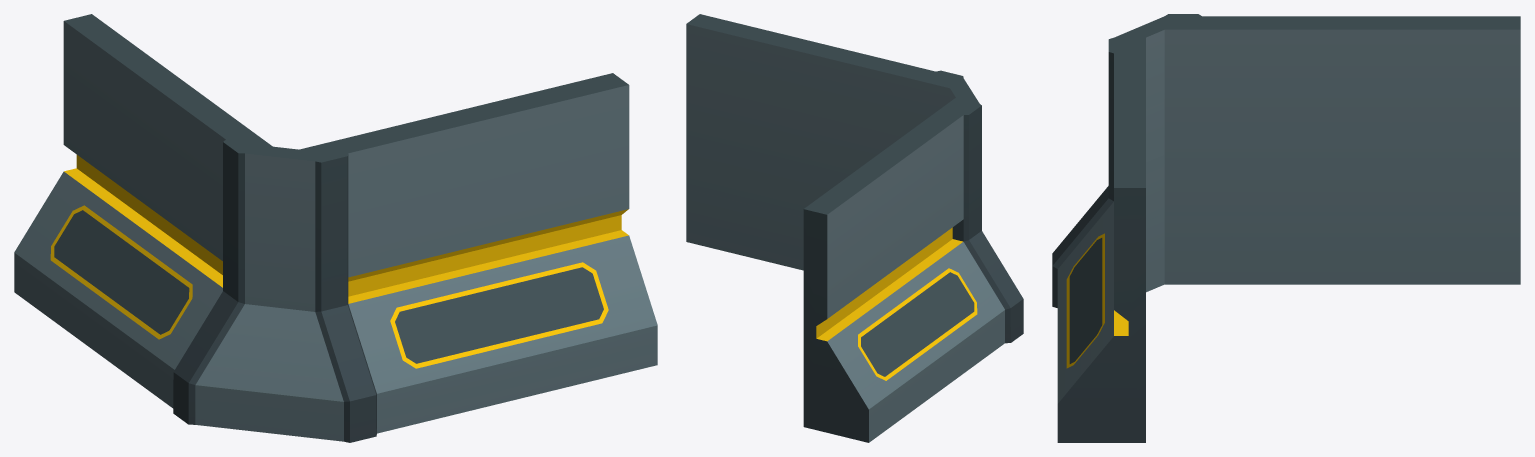
File: Wall_type_C_025.fbx
The picture shows the model from 3 angles, left to right: view 1: azimuth 30°, elevation 25°; view 2: azimuth 150°, elevation 25°; view 3: azimuth 270°, elevation 25°; orthographic projection. The views are drawn at different scales.
Visible parts, largest first — view 1: Wall_type_C_025; view 2: Wall_type_C_025; view 3: Wall_type_C_025.
Boxes of the visible parts, box(x1,y1,x2,y2) form: Wall_type_C_025: box(14, 14, 657, 442); Wall_type_C_025: box(686, 14, 1023, 442); Wall_type_C_025: box(1052, 14, 1520, 442).
Bounding box in the file's own units: 250 × 250 × 150.
